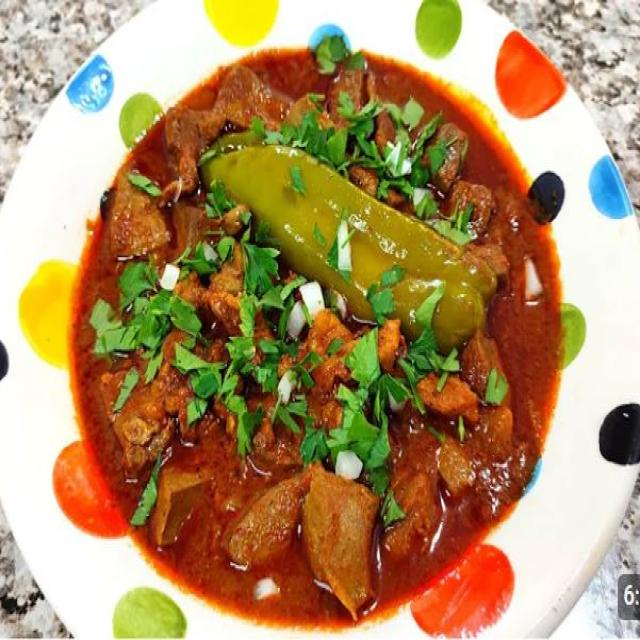kamouniya: (31, 18, 605, 583)
